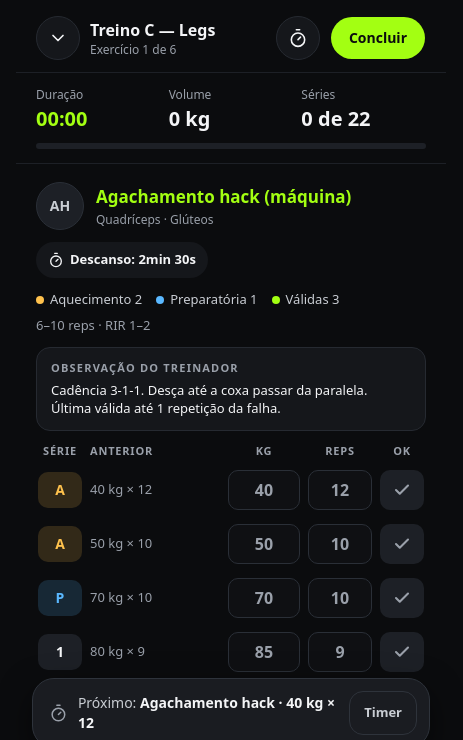
Treino em andamento › concluir uma série soma volume, conta a série e começa o descanso
The width and height of the screenshot is (463, 740).
Check: the heading "Treino C — Legs" is shown, box [90,19,215,41]
Click the button named "Concluir aquecimento 1" at [402, 490], box [380,470,424,510]
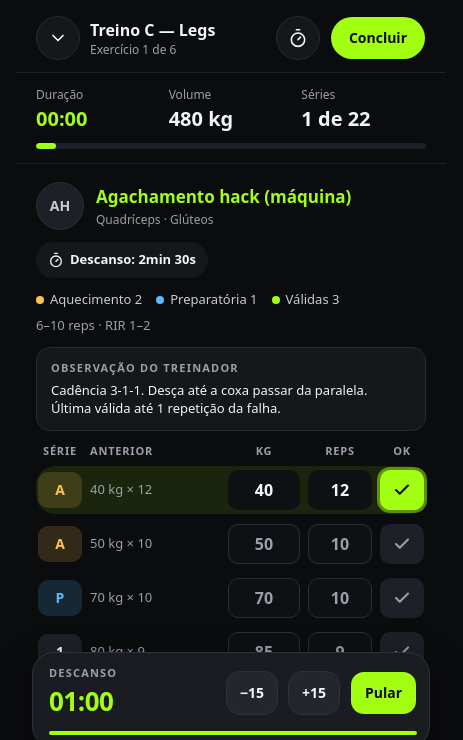
Check: the text "1 de 22" is shown, box [301,105,370,132]
Check: the text "480 kg" is shown, box [169,105,233,132]
Check: the text "01:00" is shown, box [49,682,113,721]
Click the button "Pular" at [383, 693], box [350,671,417,715]
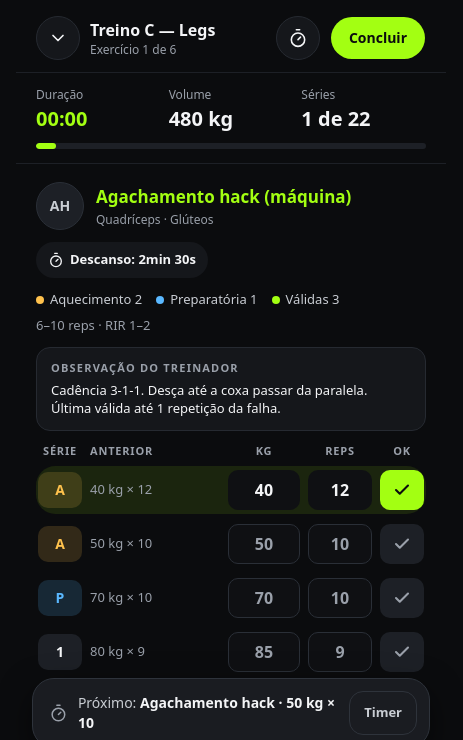
Check: the text "Agachamento hack · 50 kg × 10" is shown, box [78,693,335,732]
